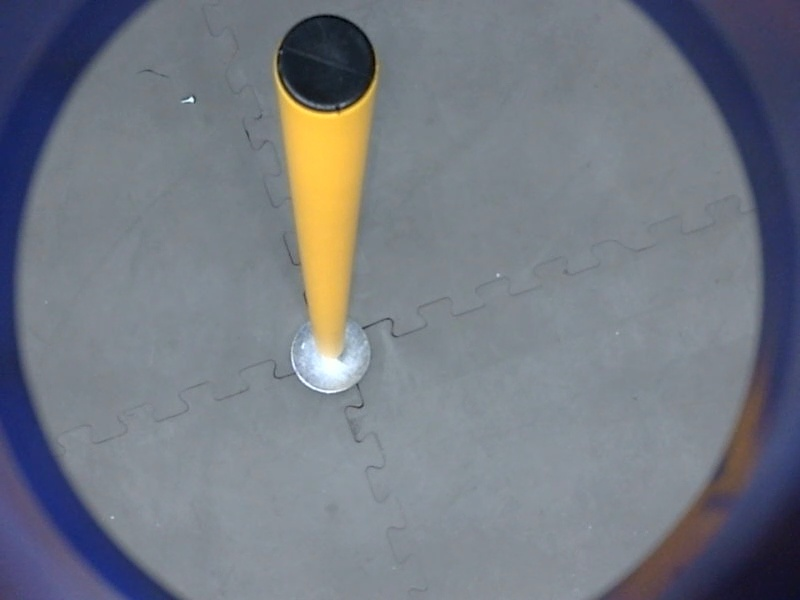tip: (268, 10, 384, 120)
